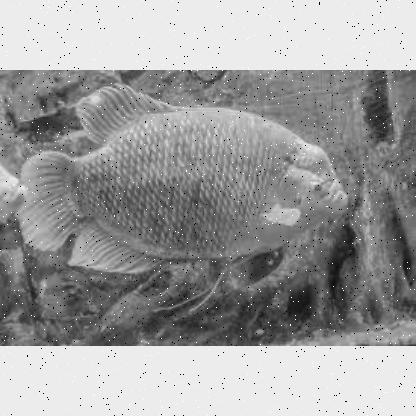gurame: (24, 92, 348, 268)
